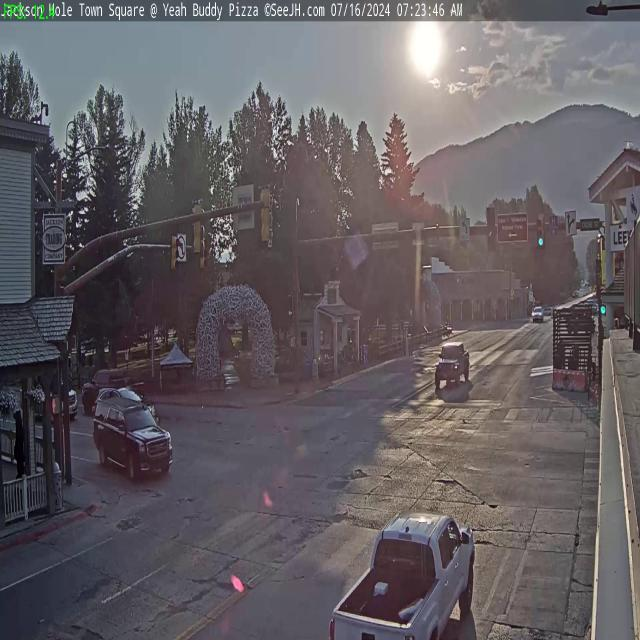pickup: (324, 510, 478, 640), (81, 360, 145, 418)
suv: (92, 395, 175, 481), (434, 340, 470, 390)
traffic light: (190, 199, 203, 256), (260, 185, 272, 245), (169, 231, 180, 280), (487, 206, 496, 251), (536, 214, 546, 248)
